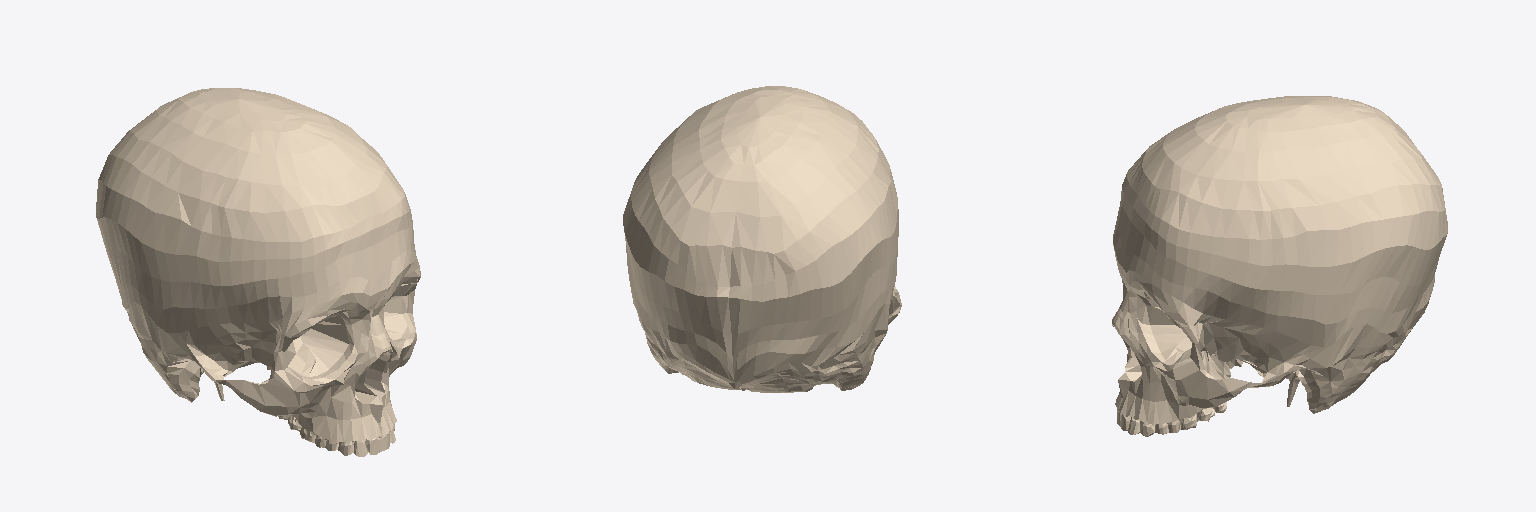
Rendered from skull.obj.
The picture shows the model from 3 angles: view 1: azimuth 30°, elevation 25°; view 2: azimuth 150°, elevation 25°; view 3: azimuth 270°, elevation 25°; orthographic projection.
Parts seen in each view (by area): view 1: skull, uteeth; view 2: skull; view 3: skull, uteeth.
Boxes of the visible parts, x1=… form: skull: x1=96, y1=88, x2=420, y2=444; uteeth: x1=278, y1=415, x2=395, y2=456; skull: x1=623, y1=86, x2=901, y2=392; skull: x1=1112, y1=96, x2=1447, y2=424; uteeth: x1=1117, y1=402, x2=1226, y2=436.
Bounding box in the file's own units: 5.23 × 5.98 × 6.14.